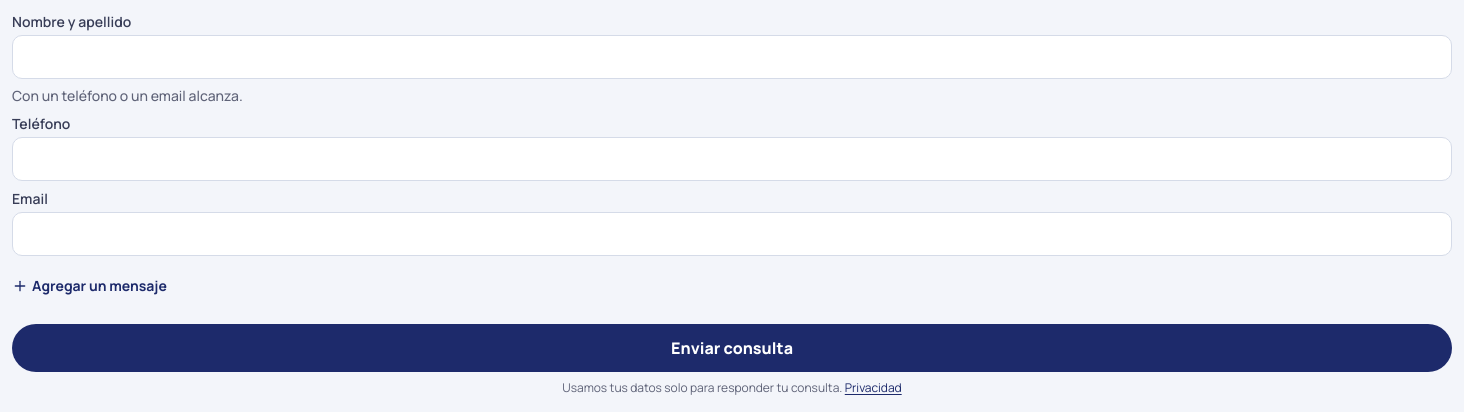
Scenario: PropertyInquiryForm › thanks the visitor once the inquiry is sent
Type "Ana García" into the field labelled "Nombre y apellido" at (732, 57), box [12,35,1452,79]
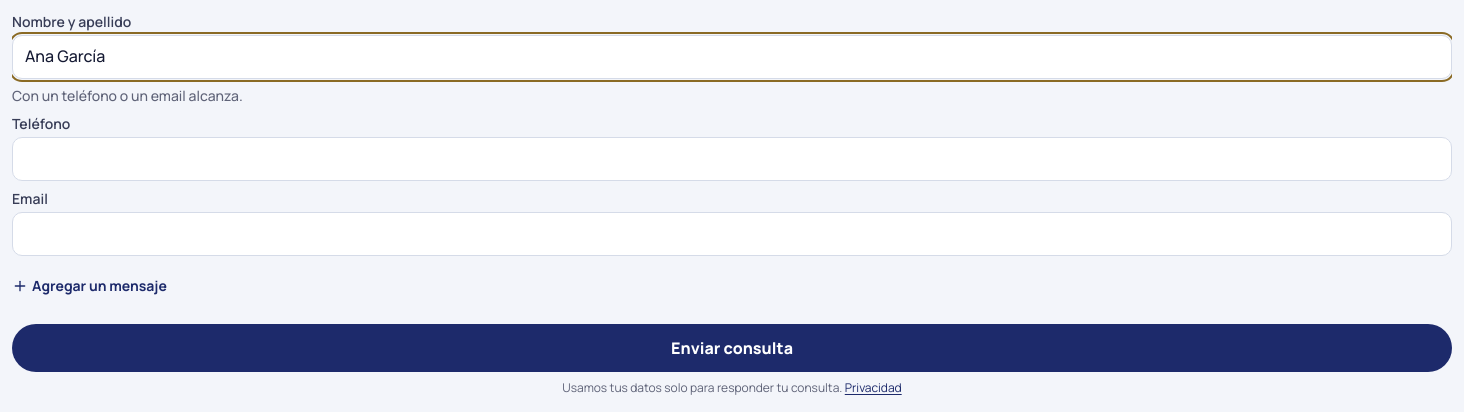
Type "11 3896-7363" into the field labelled "Teléfono" at (732, 159), box [12,137,1452,181]
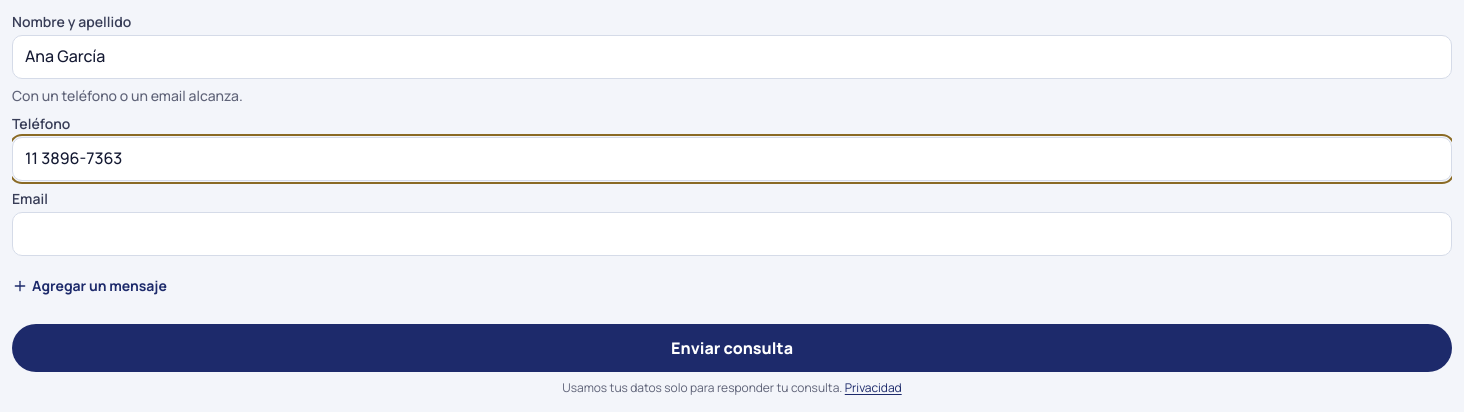
Click the button "Enviar consulta" at (732, 348), box [12,324,1452,372]
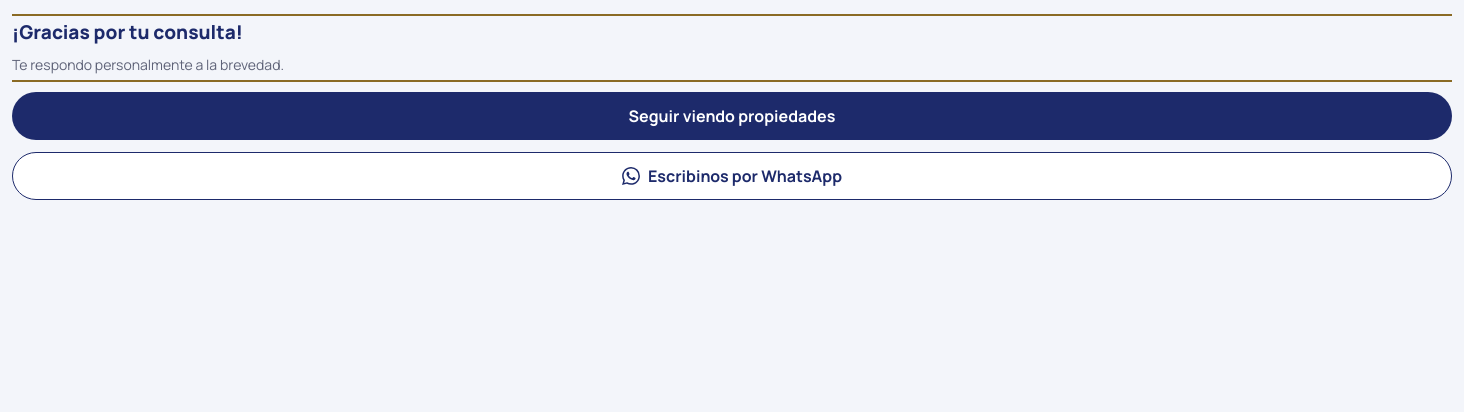
Expected: the message shows "¡Gracias por tu consulta!", [12,19,243,45]
